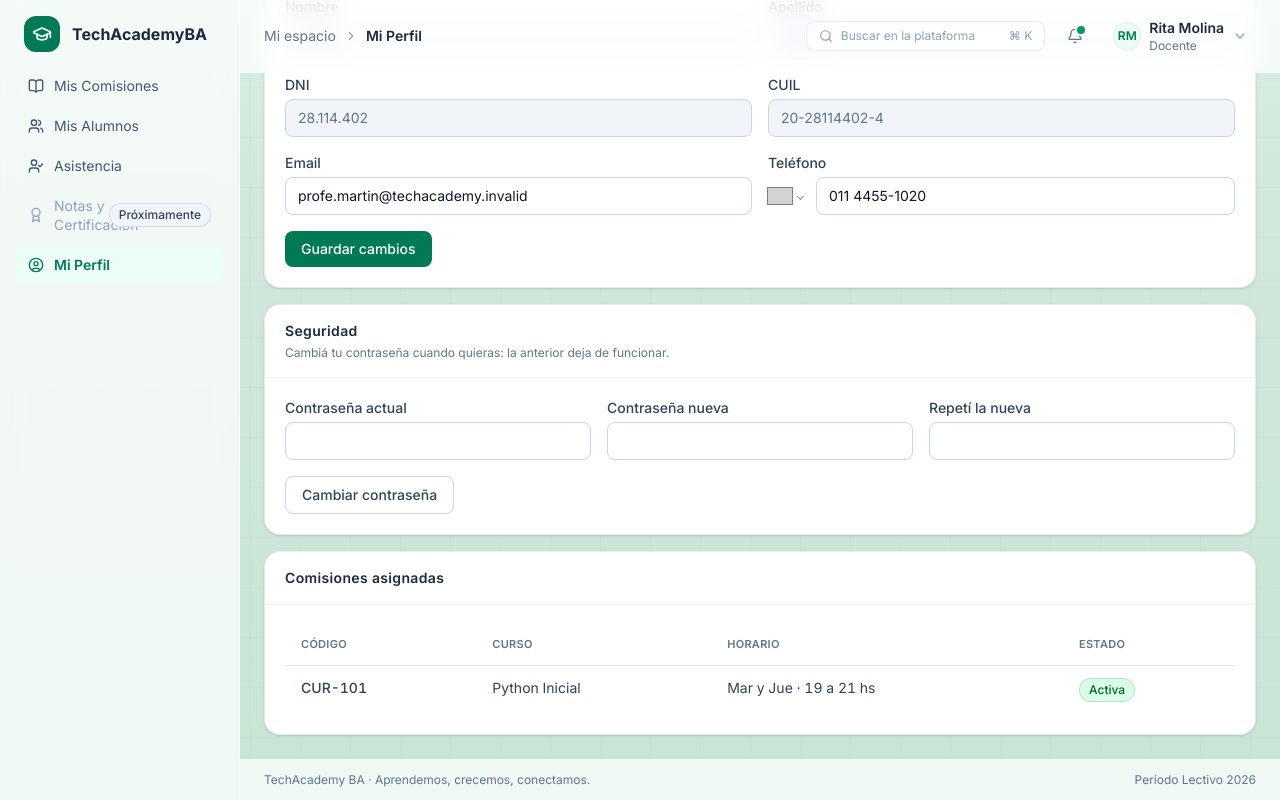
Test: seguridad › rechaza la confirmación distinta sin enviar el cambio
(page scrolled)
expect the field showing "profe.martin@techacademy.invalid" is shown: met, box [285,177,752,215]
Type "Demo2026!" into the password field labelled "Contraseña actual" at (438, 441), box [285,422,591,460]
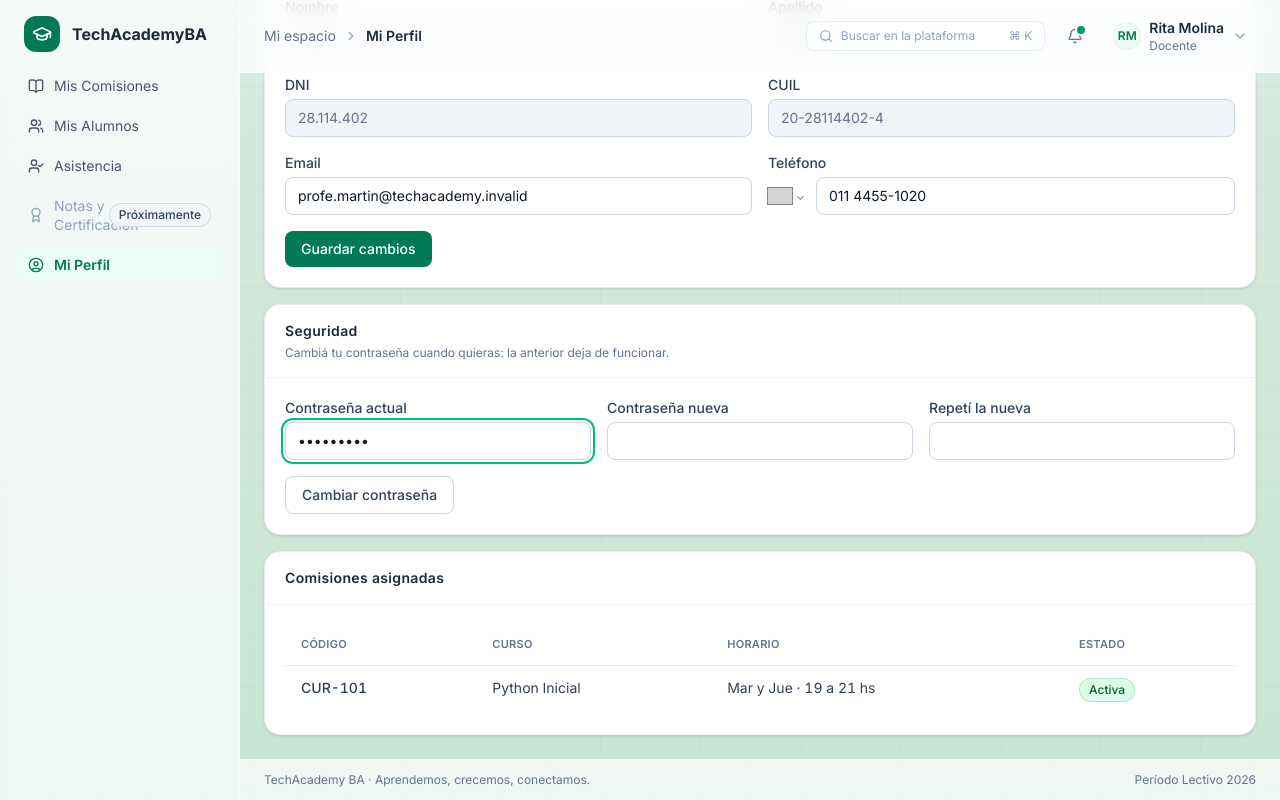
Type "NuevaClave123!" into the password field labelled "Contraseña nueva" at (760, 441), box [607,422,913,460]
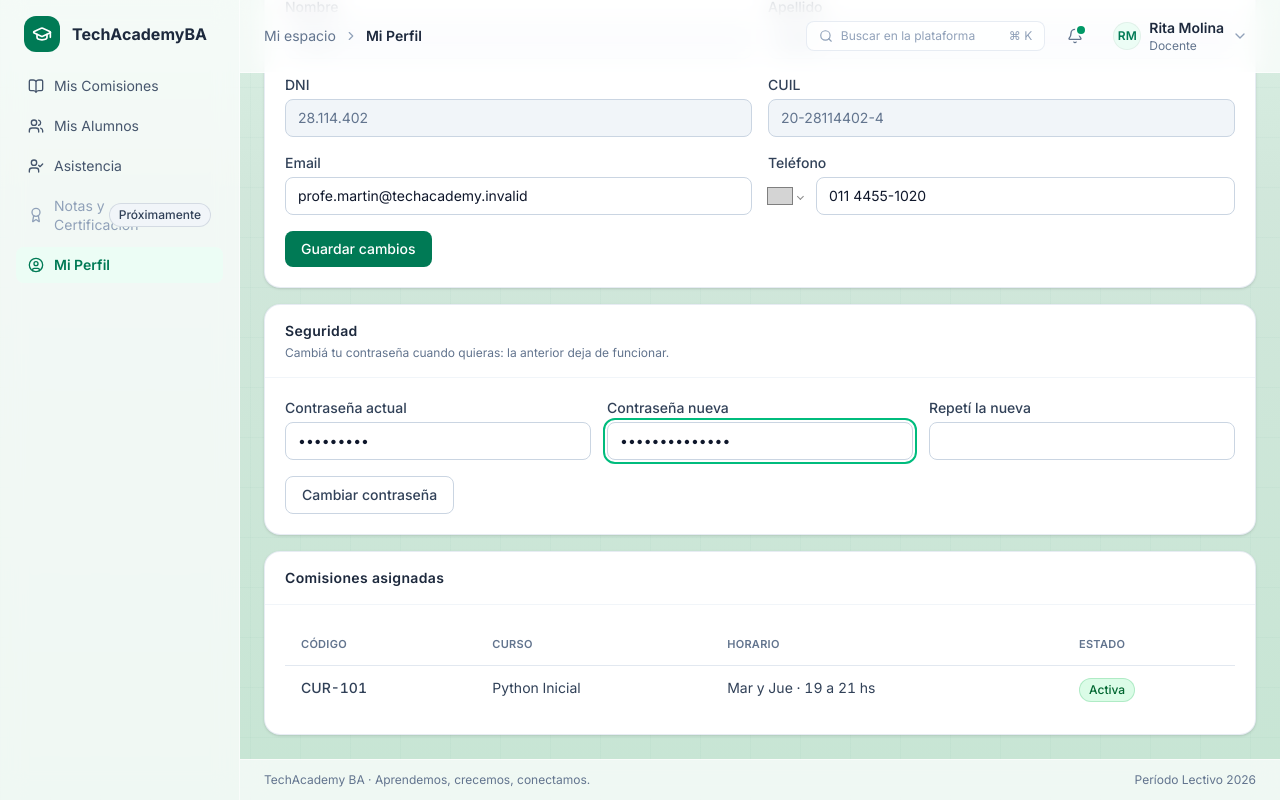
Type "OtraClave123!" into the password field labelled "Repetí la nueva" at (1082, 441), box [929,422,1235,460]
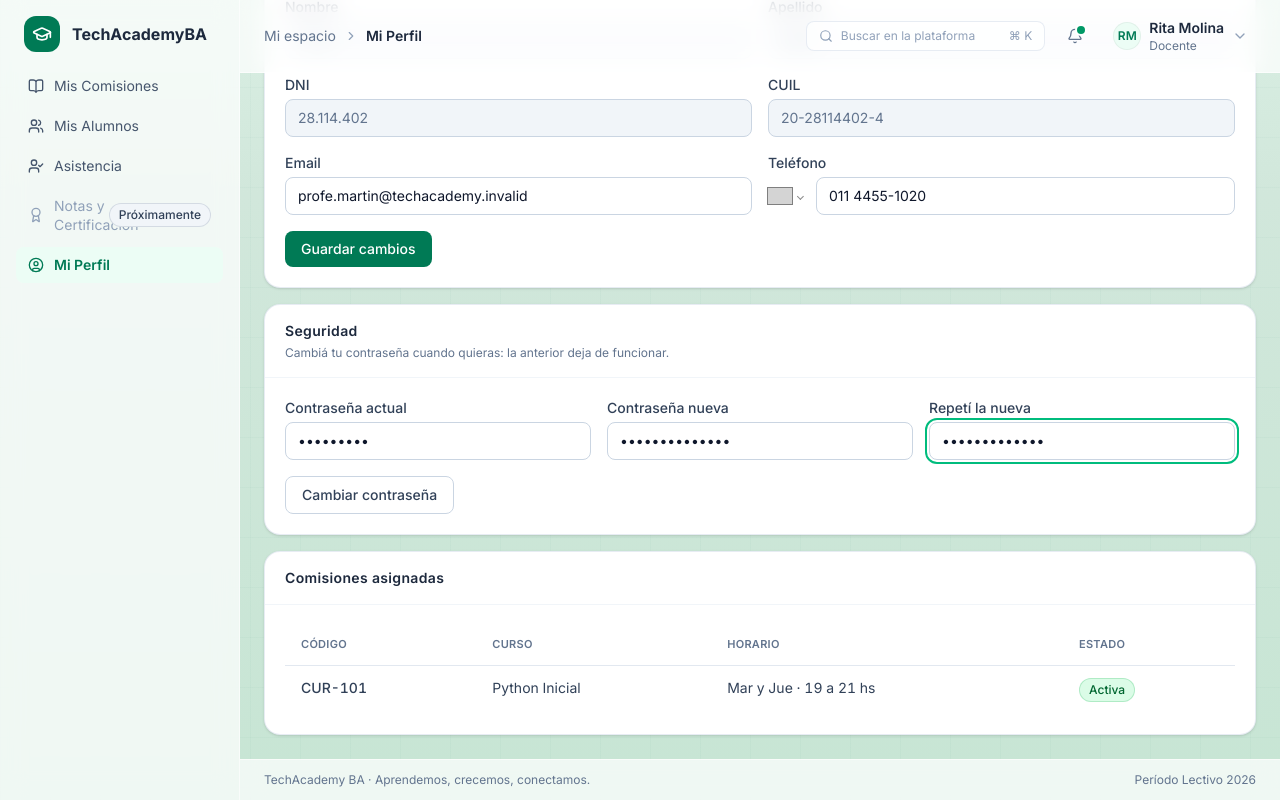
Click the button "Cambiar contraseña" at (370, 495), box [285,476,454,514]
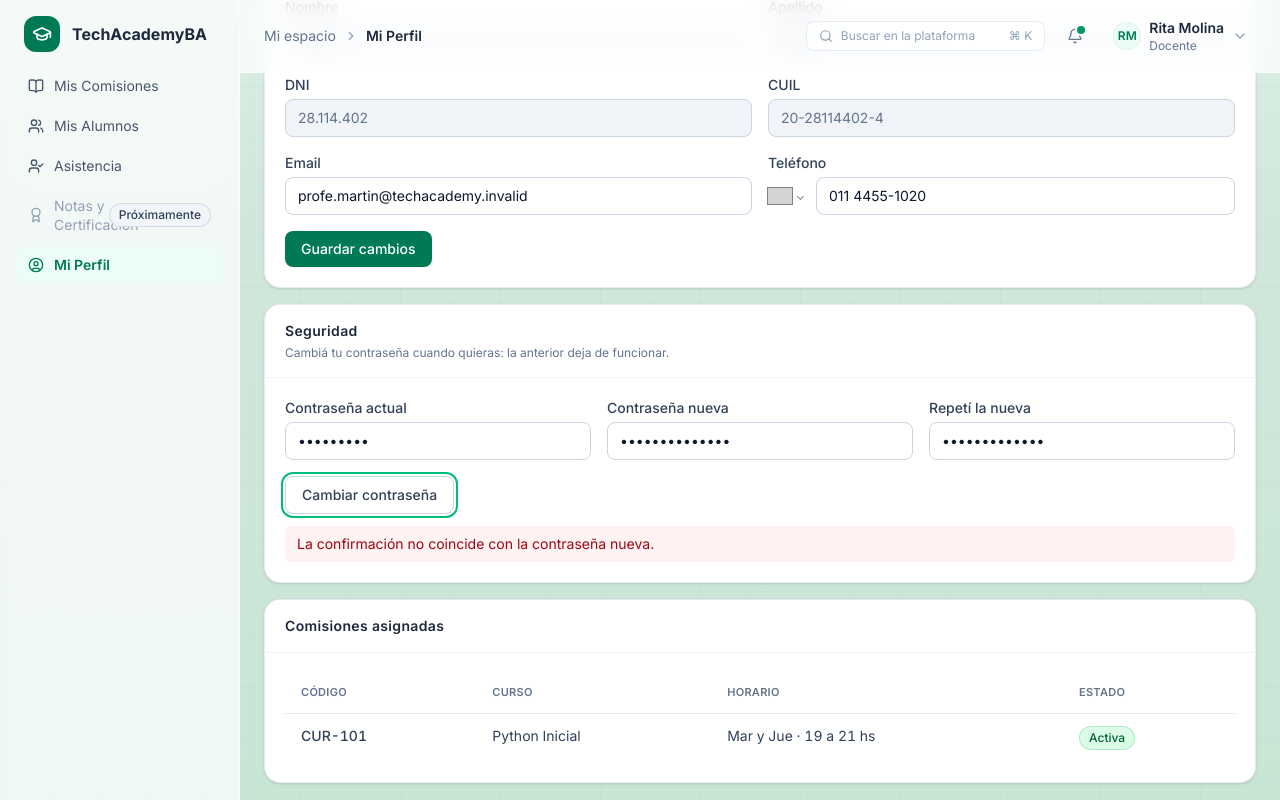
expect the message reads "La confirmación no coincide con la contraseña nueva.": met, box [297,535,654,552]
